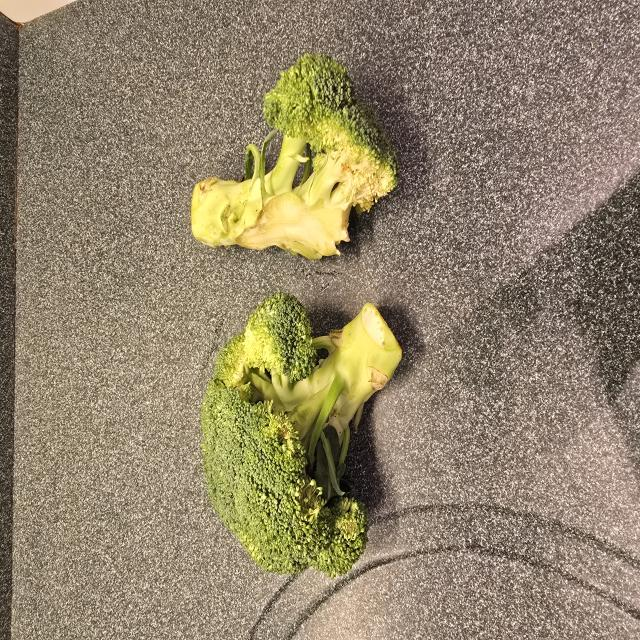Broccoli: (198, 278, 411, 587), (191, 53, 401, 262)
